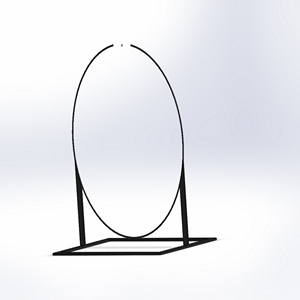circle: (45, 38, 218, 258)
